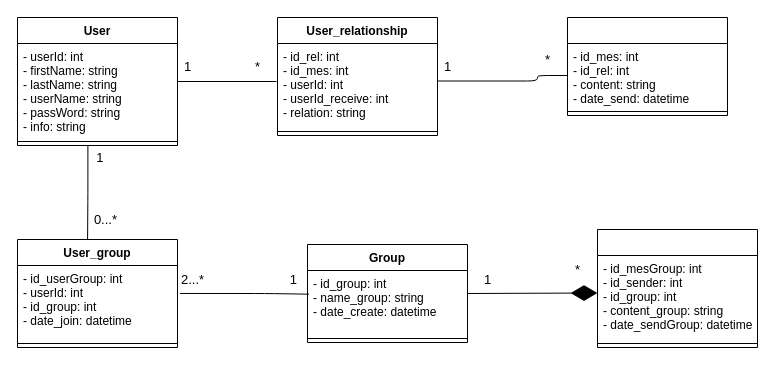
Some shapes in this 775 by 365 pixel diagram are drawn without their labels. Each missing label, with the box of its shape:
Message: (566, 16, 728, 116)
Message_group: (596, 228, 758, 348)
